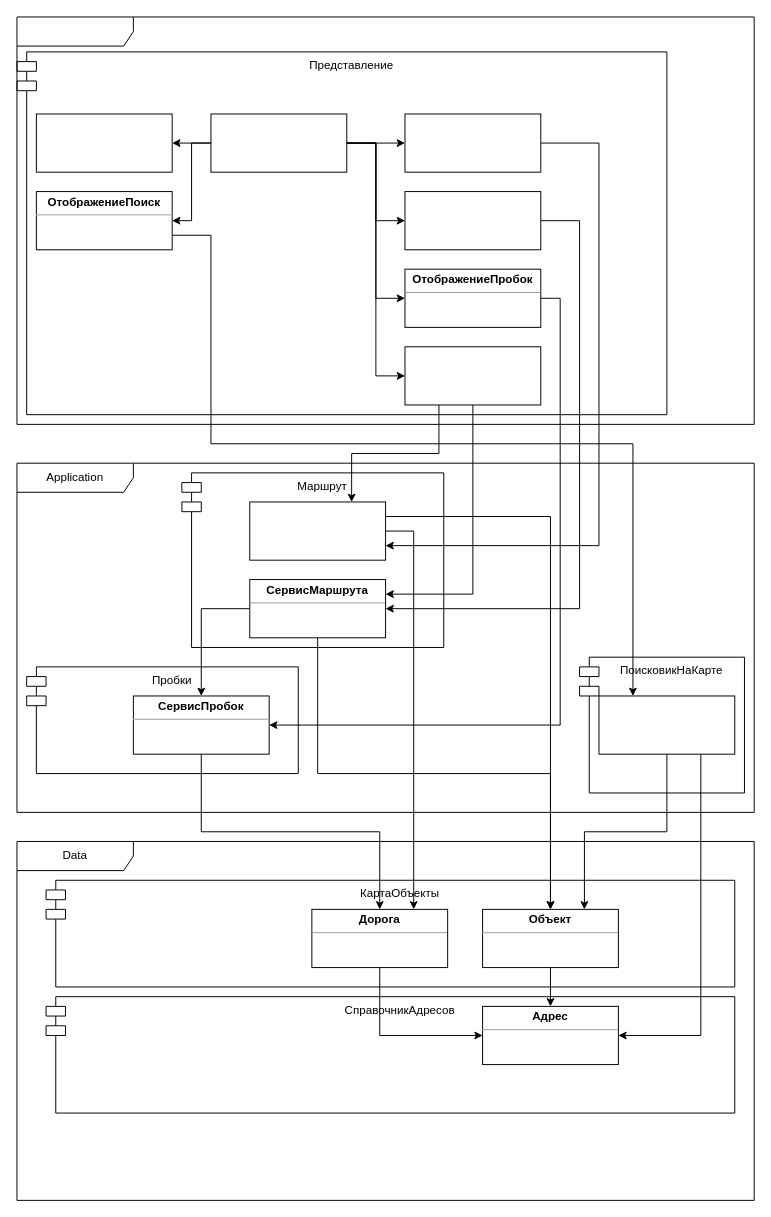
Image size: 771x1217. Some labels were removed from this diagram. The shapes that lost their labels are listed below. From the top down, each one's centre as x and y in pixels, then its label:
At (103,142): "ТемаОформления".
At (278,142): "ОтображениеКарты".
At (472,142): "ОтображениеОбъекта".
At (385,220): "Presentation".
At (472,220): "ОтображениеМаршрута".
At (472,375): "ОтображениеДороги".
At (317,530): "СервисТекущего Положения".
At (666,724): "СервисПоиска".
